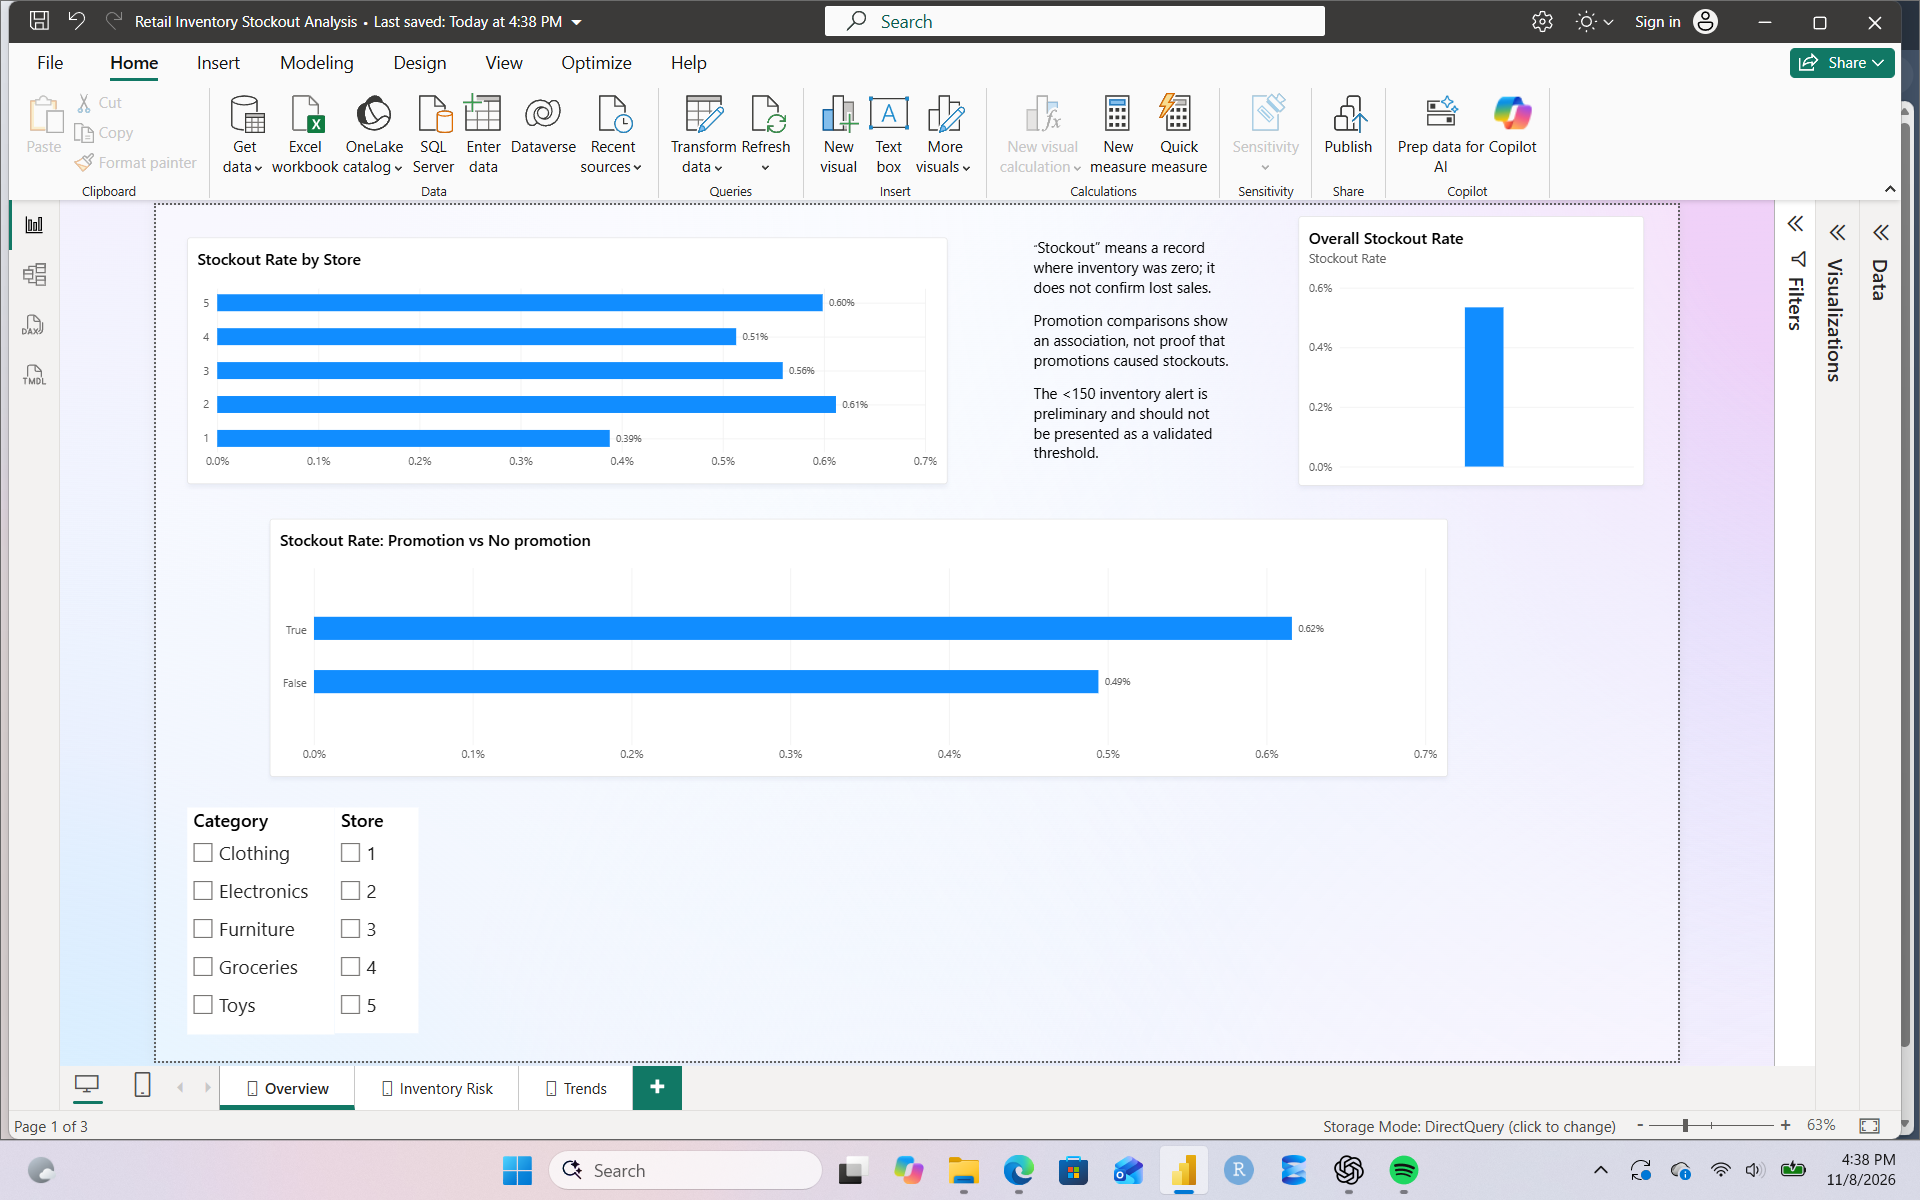

What the dashboard file says about the page in this screenshot:
{"tool":"powerbi","page":{"name":"Overview","canvas":[1920,1080],"ordinal":0},"visuals":[{"type":"clusteredBarChart","title":"Stockout Rate by Store","fields":{"Category":["sales_data (2).store_id"],"Y":["sales_data (2).Stockout Rate"]},"box":[39.1,41.2,959.2,310.8],"z":1},{"type":"clusteredBarChart","title":"Stockout Rate: Promotion vs No promotion","fields":{"Category":["sales_data (2).promotion"],"Y":["sales_data (2).Stockout Rate"]},"box":[144.1,395.2,1486.1,325.2],"z":2},{"type":"tableEx","fields":{"Values":["sales_data (2).store_id","sales_data (2).product_id","sales_data (2).category","sales_data (2).promotion","sales_data (2).Stockout Records","sales_data (2).Stockout Rate"]},"box":[1323.3,720.6,554.2,326.6],"z":3},{"type":"slicer","fields":{"Values":["sales_data (2).store_id"]},"box":[225.5,760.7,105.4,284.5],"z":4},{"type":"slicer","fields":{"Values":["sales_data (2).category"]},"box":[40,760.7,185.4,286.6],"z":5},{"type":"clusteredColumnChart","title":"Overall Stockout Rate","fields":{"Y":["sales_data (2).Stockout Rate"]},"box":[1440.8,14.4,436.4,339.6],"z":7},{"type":"textbox","box":[1107.4,41.2,247,325],"z":8}]}

Visuals, with their boxes on the page's 1920x1080 design canvas (x1, y1, x2, y2). These are canvas units, not pixel positions in the 1920x1200 screenshot, which may show the page scaled, cropped or inside an application window:
"Stockout Rate by Store" clusteredBarChart: box=[39, 41, 998, 352]
"Stockout Rate: Promotion vs No promotion" clusteredBarChart: box=[144, 395, 1630, 720]
tableEx - sales_data (2).store_id x sales_data (2).product_id: box=[1323, 721, 1878, 1047]
slicer - sales_data (2).store_id: box=[226, 761, 331, 1045]
slicer - sales_data (2).category: box=[40, 761, 225, 1047]
"Overall Stockout Rate" clusteredColumnChart: box=[1441, 14, 1877, 354]
textbox: box=[1107, 41, 1354, 366]
